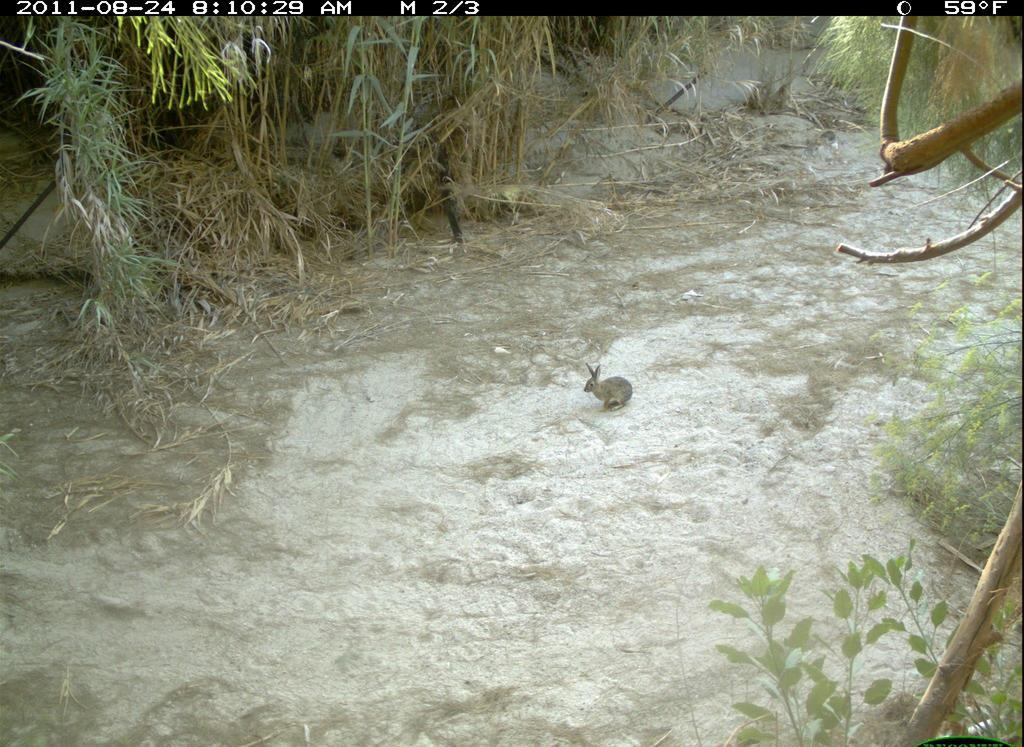rabbit: (580, 363, 638, 414)
